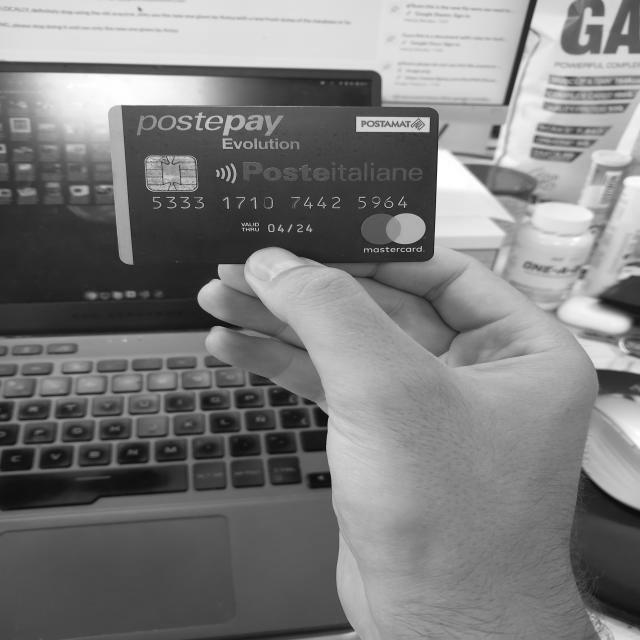card: (106, 104, 438, 266)
